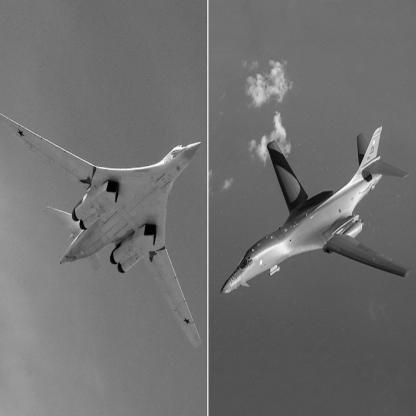B1: (221, 126, 415, 296)
Tu160: (1, 114, 204, 351)
